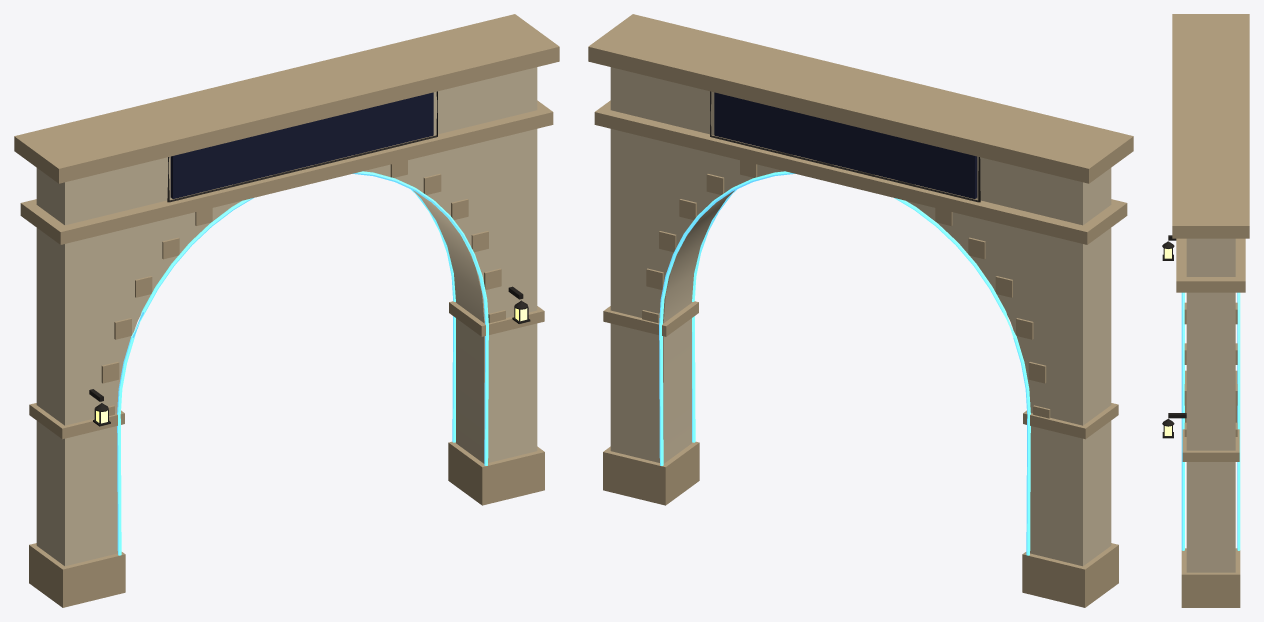
3 renders of one model, left to right at view 1: azimuth 30°, elevation 25°; view 2: azimuth 150°, elevation 25°; view 3: azimuth 270°, elevation 25°, orthographic. The views are drawn at different scales.
Visible parts, largest first — view 1: gate.lod0; view 2: gate.lod0; view 3: gate.lod0.
Part boxes in pixels (x1,y1,x2,y2): gate.lod0: [14, 14, 559, 607]; gate.lod0: [588, 14, 1133, 607]; gate.lod0: [1162, 14, 1249, 607].
Bounding box in the file's own units: 12.3 × 10.45 × 2.15.
